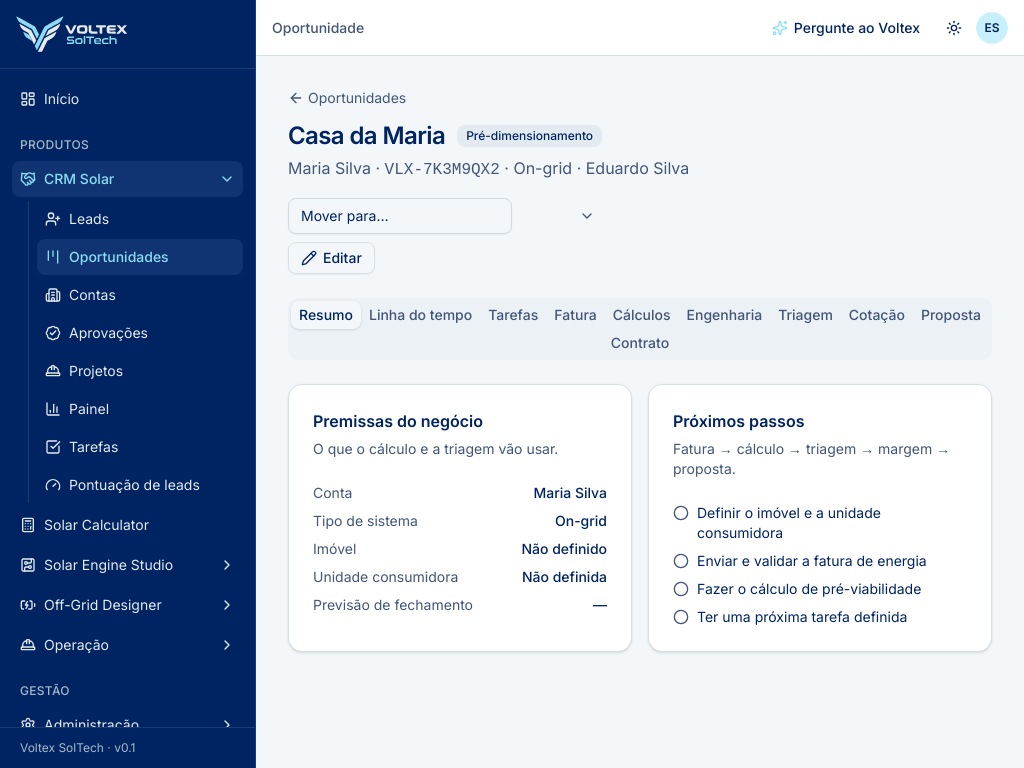
Scenario: Oportunidade · Triagem › desatualizada avisa o motivo e não oferece liberação; vendedor nunca vê a liberação
The width and height of the screenshot is (1024, 768).
Click the tab "Triagem".
click(805, 315)  # box [770,301,841,329]
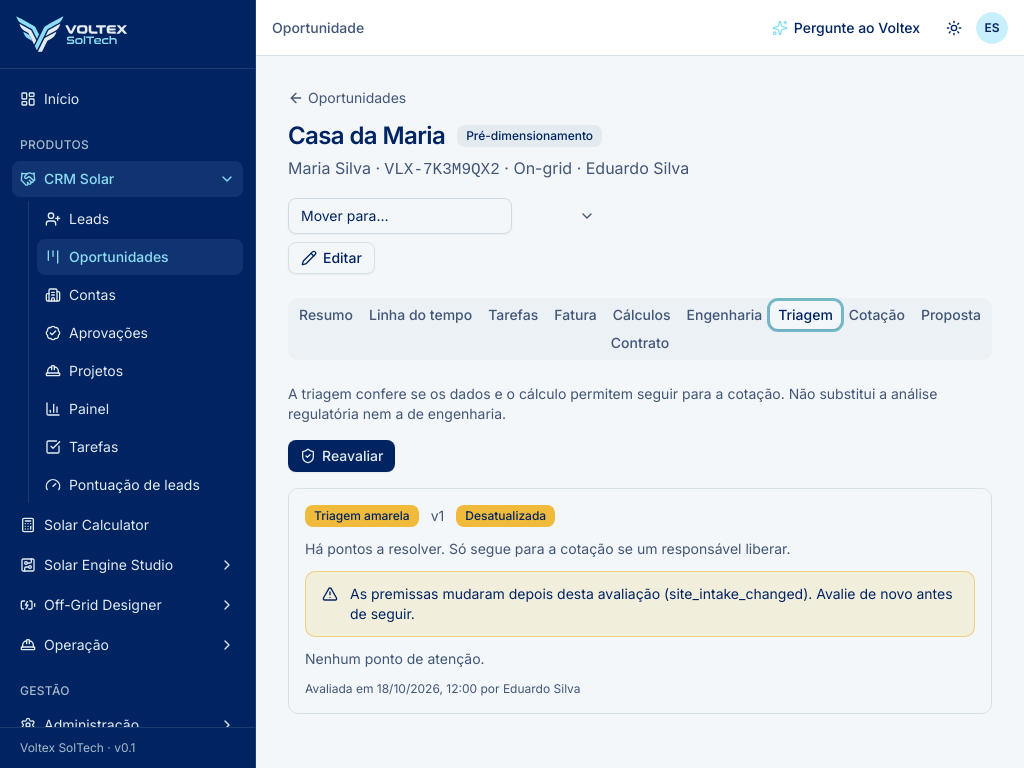
Result: the text "As premissas mudaram depois desta avaliação" is shown at [350,585,660,602]
Result: the text "Desatualizada" is shown at [456,505,555,527]
